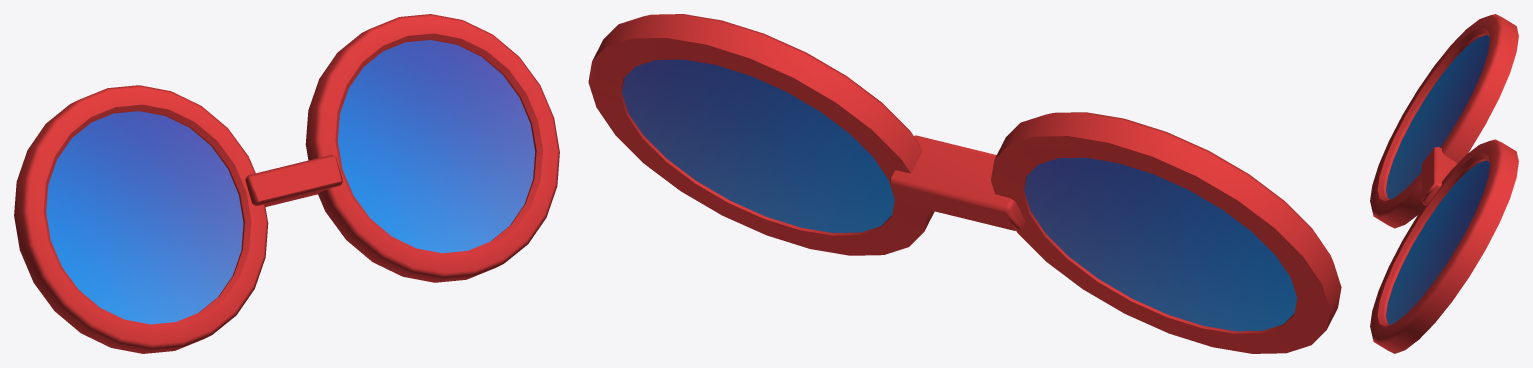
Rendered from Glasses_21.glb.
3 views of the same model, side by side, from view 1: azimuth 30°, elevation 25°; view 2: azimuth 150°, elevation 25°; view 3: azimuth 270°, elevation 25° (orthographic). The views are drawn at different scales.
Parts seen in each view (by area): view 1: Glasses_21; view 2: Glasses_21; view 3: Glasses_21.
Part boxes in pixels (box(x1,y1,x2,y2)): Glasses_21: box(14, 14, 559, 353); Glasses_21: box(588, 14, 1341, 353); Glasses_21: box(1370, 14, 1518, 353).
Bounding box in the file's own units: 0.5162 × 0.2003 × 0.1436.
Materials: 1 (1 with a texture image).
